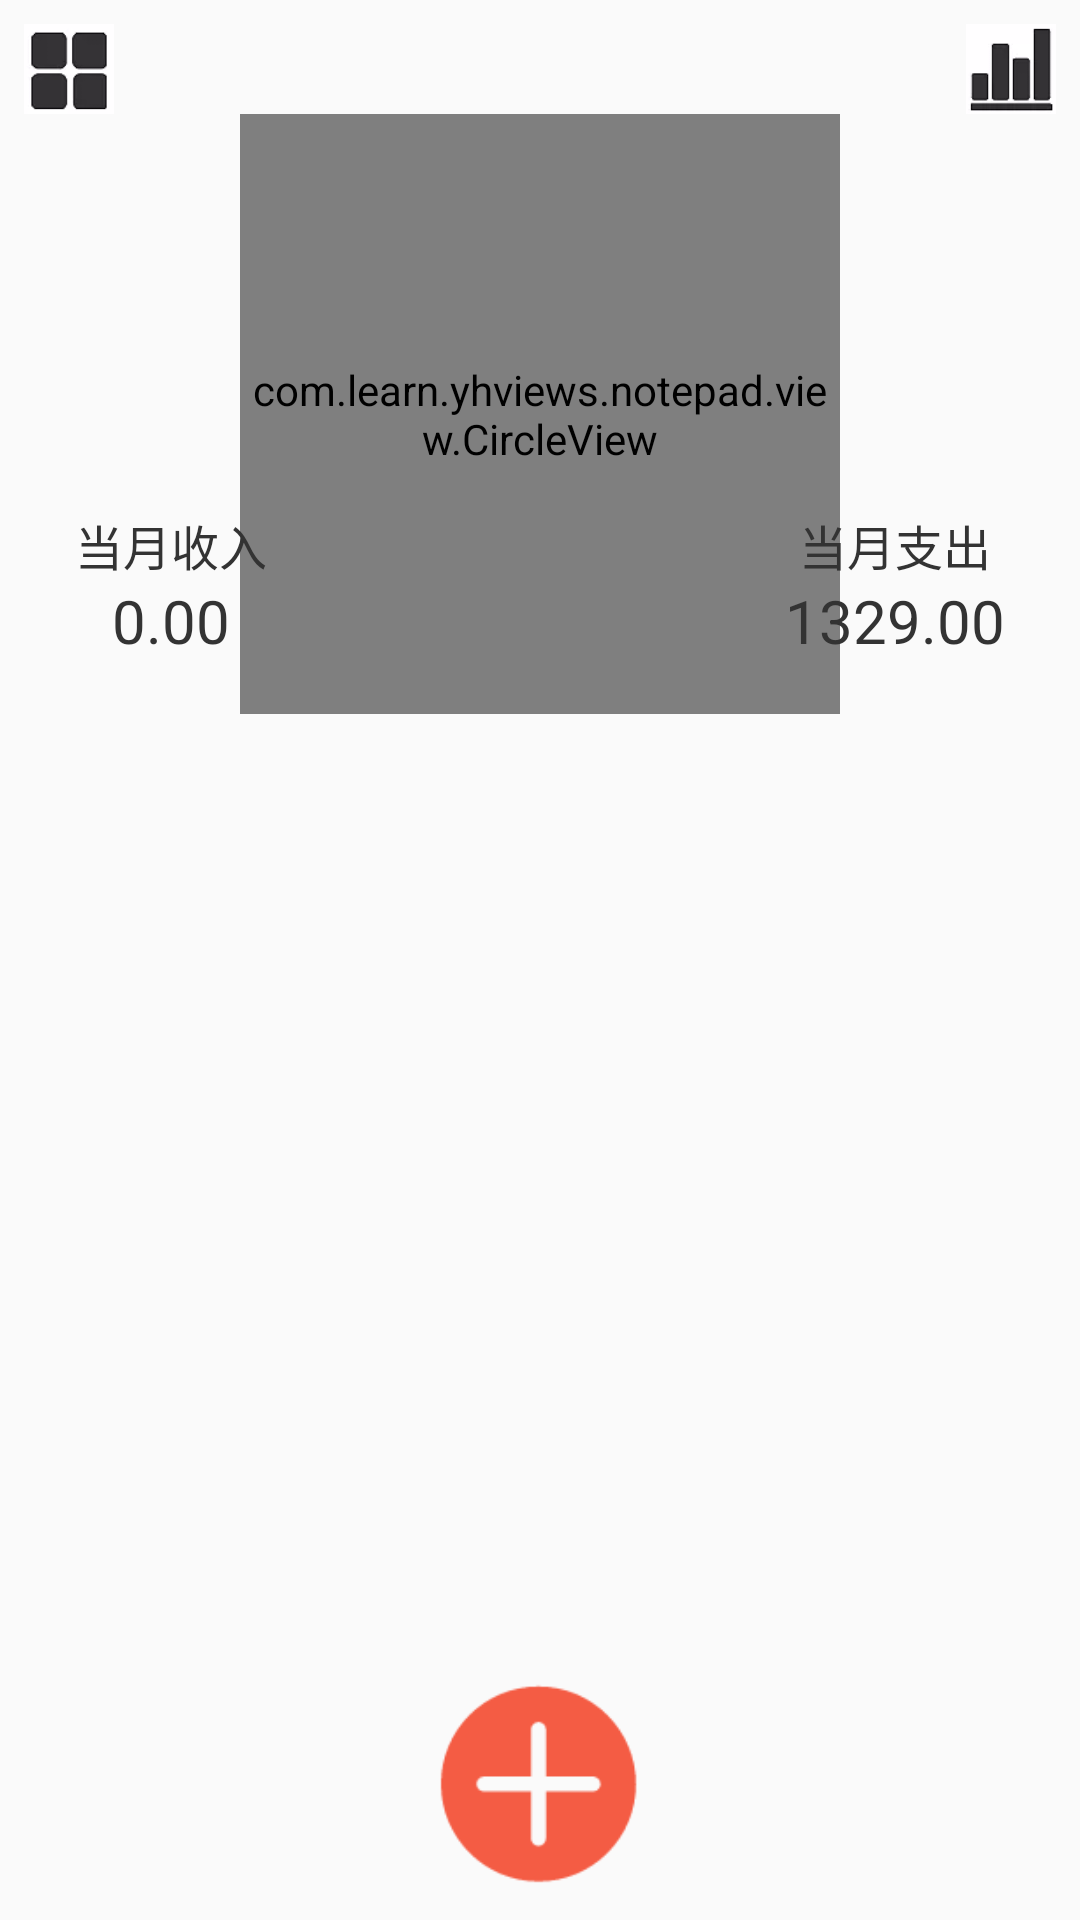

Icon bounding boxes for this 1080 x 1920 phone screenshot, format box=[x1, y1, x2, y2]:
add: box=[440, 1685, 637, 1883]
chart: box=[970, 28, 1053, 111]
